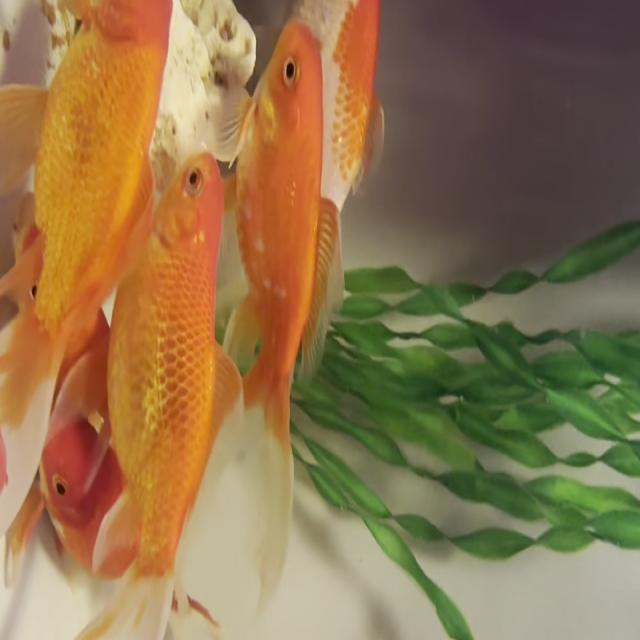fish: (27, 151, 237, 640), (0, 0, 167, 536), (208, 23, 335, 610), (250, 0, 384, 223)
